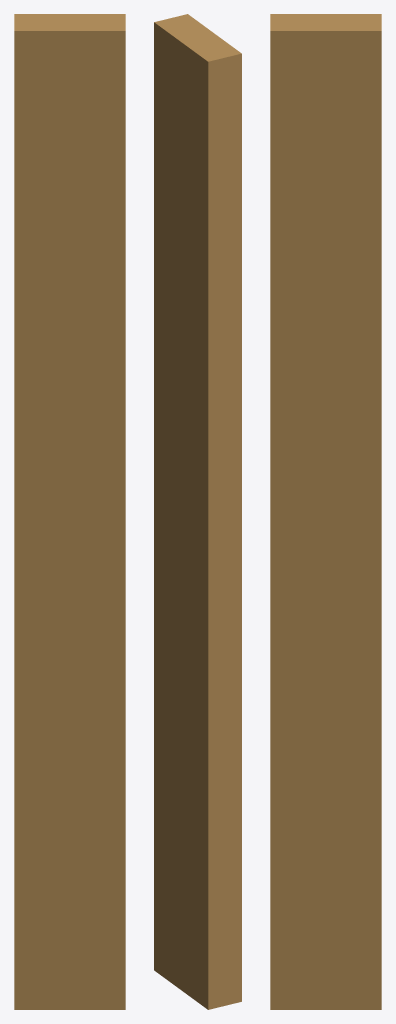
The picture shows the model from 3 angles, left to right: view 1: azimuth 90°, elevation 25°; view 2: azimuth 210°, elevation 25°; view 3: azimuth 270°, elevation 25°; orthographic projection. The views are drawn at different scales.
Visible parts, largest first — view 1: FF-W146; view 2: FF-W146; view 3: FF-W146.
Part boxes in pixels (x1,y1,x2,y2): FF-W146: [14, 14, 125, 1009]; FF-W146: [154, 14, 241, 1009]; FF-W146: [270, 14, 381, 1009].
Bounding box in the file's own units: 0.09 × 2.42 × 0.25.
